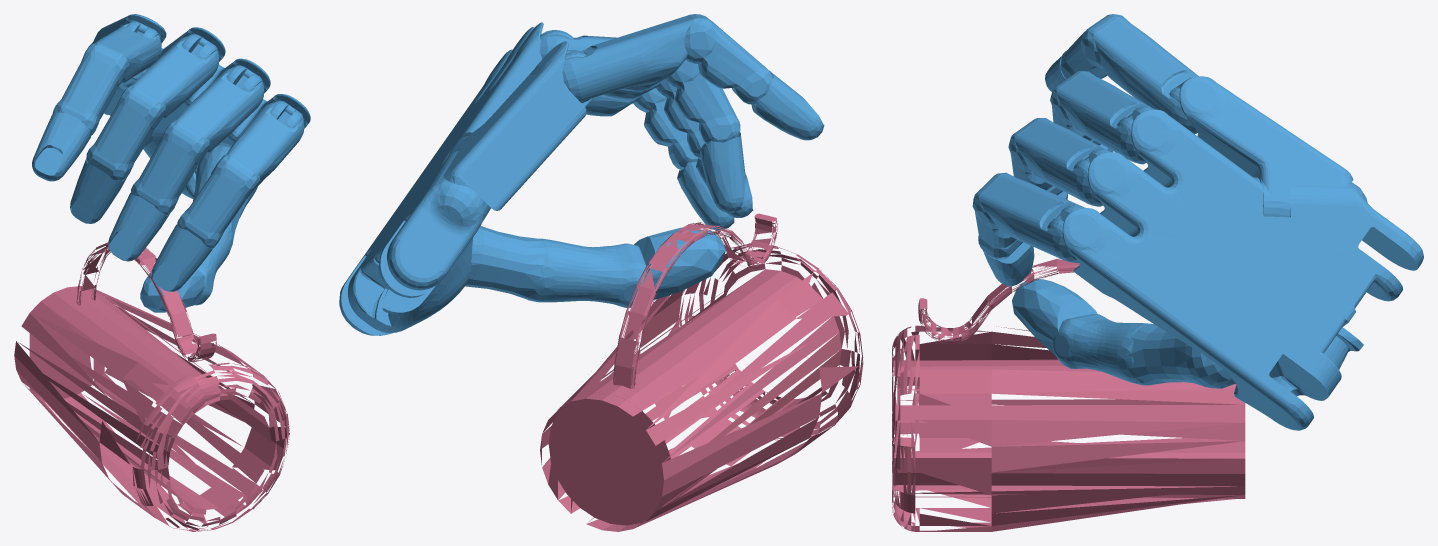
The picture shows the model from 3 angles, left to right: view 1: azimuth 30°, elevation 25°; view 2: azimuth 150°, elevation 25°; view 3: azimuth 270°, elevation 25°; orthographic projection. The views are drawn at different scales.
Parts seen in each view (by area): view 1: 4; view 2: 4; view 3: 4.
Part boxes in pixels (bbox=[...]): 4: bbox=[14, 14, 310, 531]; 4: bbox=[339, 14, 863, 531]; 4: bbox=[892, 14, 1423, 531].
Bounding box in the file's own units: 0.1459 × 0.1911 × 0.1871.
